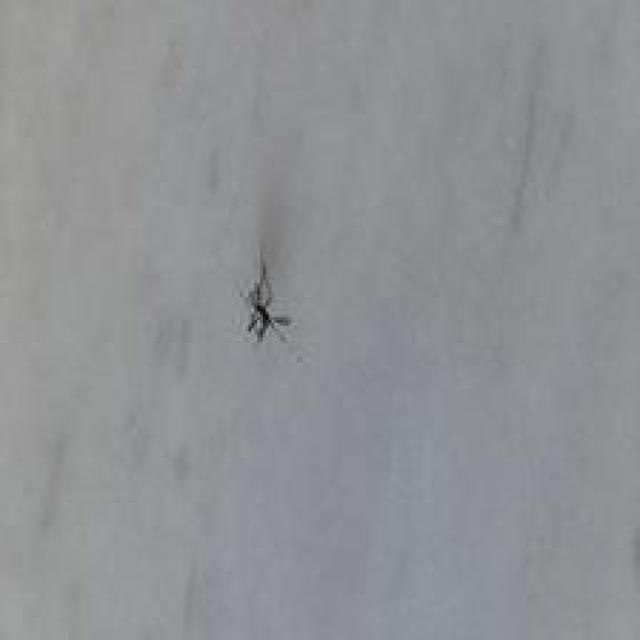Aedes albopictus: (241, 251, 293, 343)
